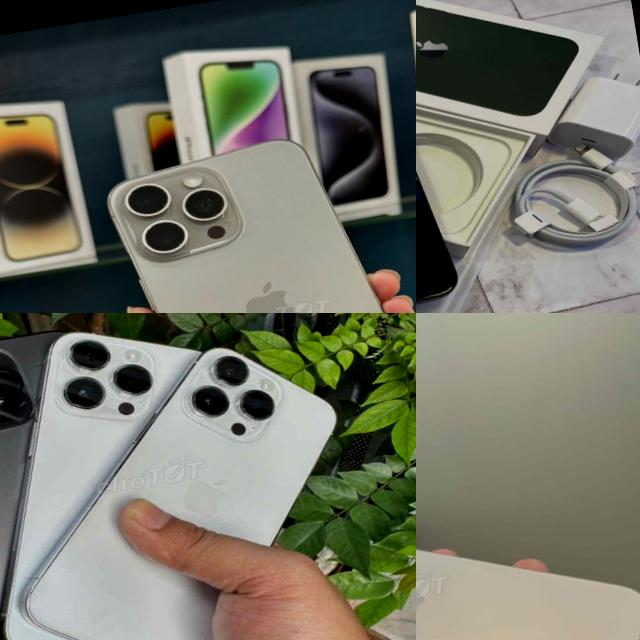gen_12_13: (416, 84, 467, 313)
gen_14: (0, 313, 166, 640)
gen_15: (84, 125, 416, 313)
gen_16: (416, 550, 640, 640)
